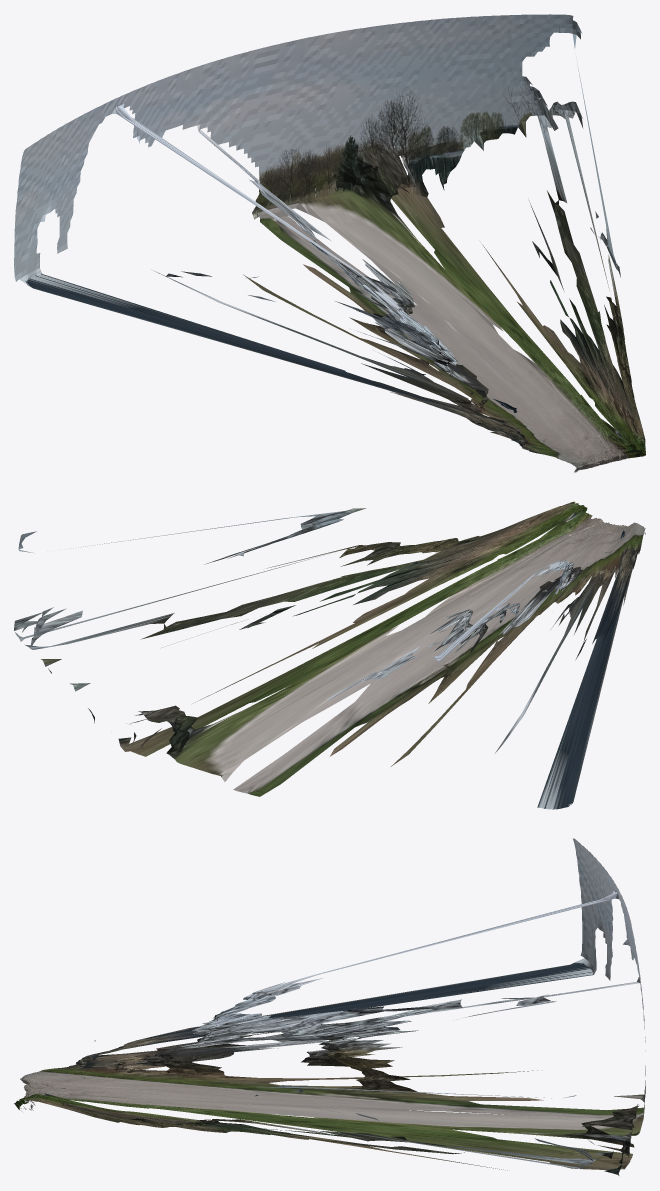
3 renders of one model, top to bottom at view 1: azimuth 30°, elevation 25°; view 2: azimuth 150°, elevation 25°; view 3: azimuth 270°, elevation 25°, orthographic. The views are drawn at different scales.
Visible parts, largest first — view 1: defaultobject; view 2: defaultobject; view 3: defaultobject.
Boxes of the visible parts, x1,y1,x2,y2 form: defaultobject: [14, 14, 645, 472]; defaultobject: [14, 501, 645, 809]; defaultobject: [14, 838, 645, 1175].
Size of the model in its own units: 40.78 by 12.77 by 44.71.
1 material, 1 textured.
